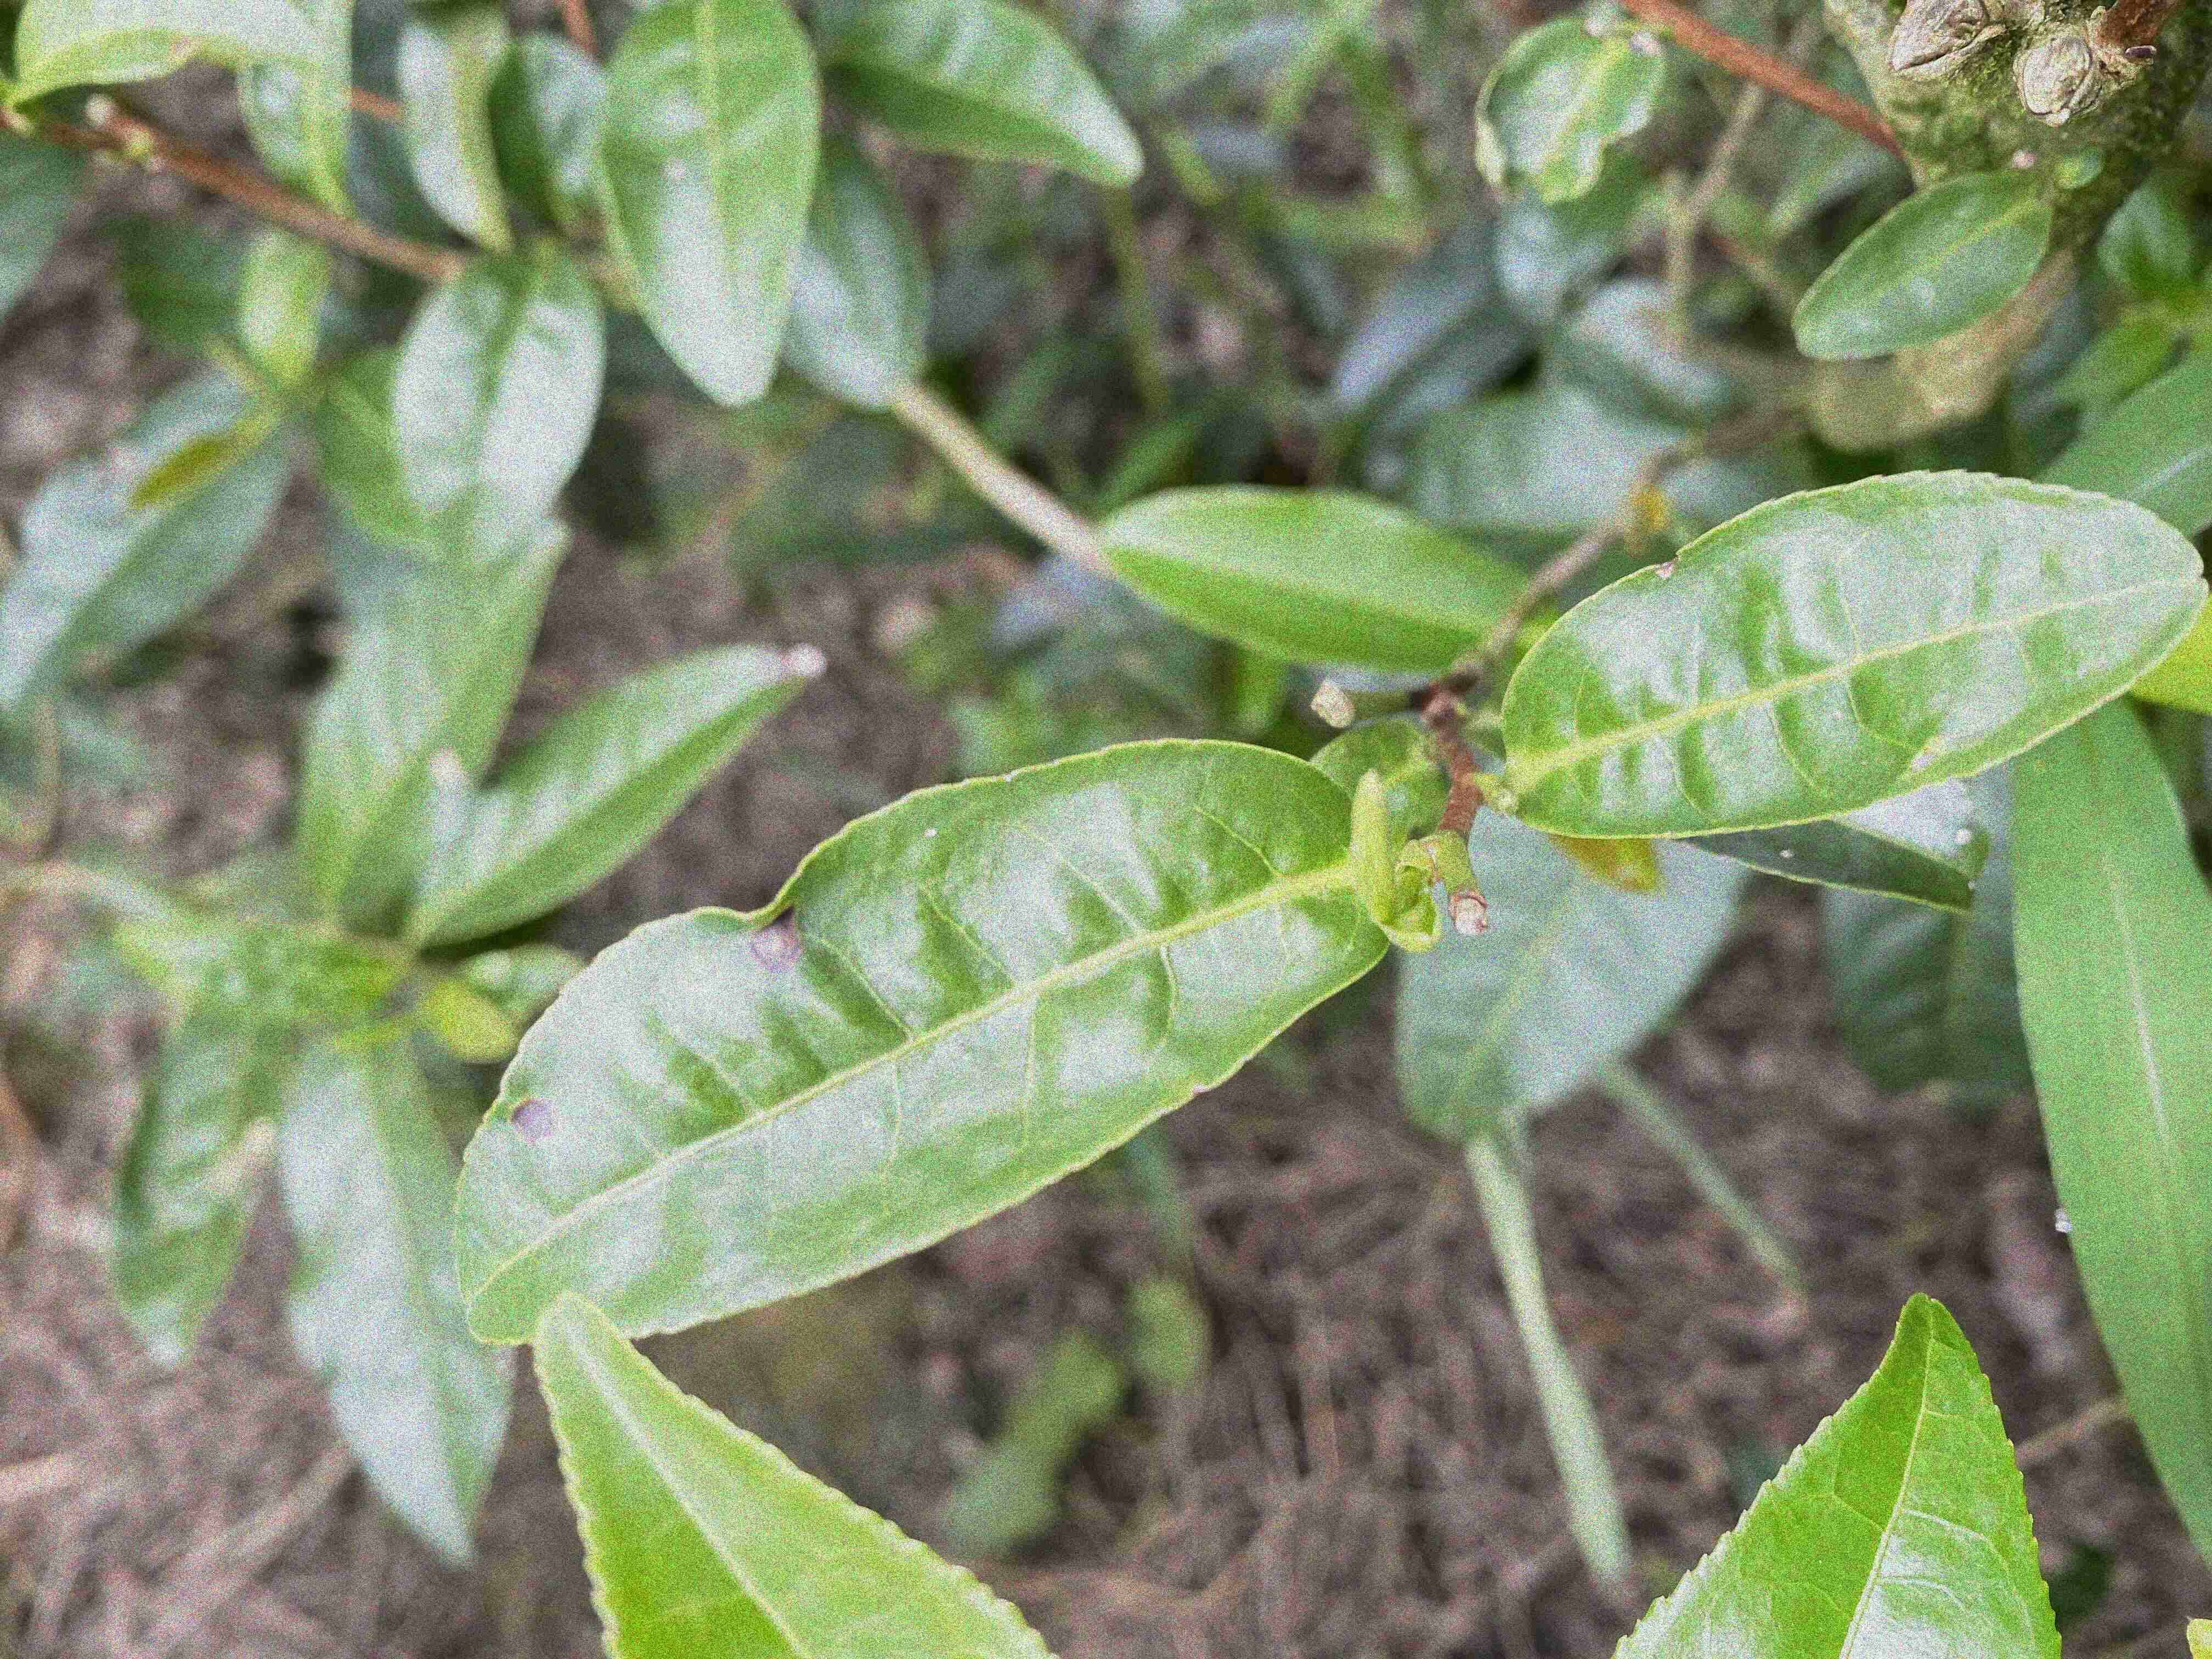healthy: (531, 1293, 1055, 1656), (1602, 1288, 2069, 1657)
tanju_low: (449, 735, 1399, 1347), (1494, 471, 2207, 838)
